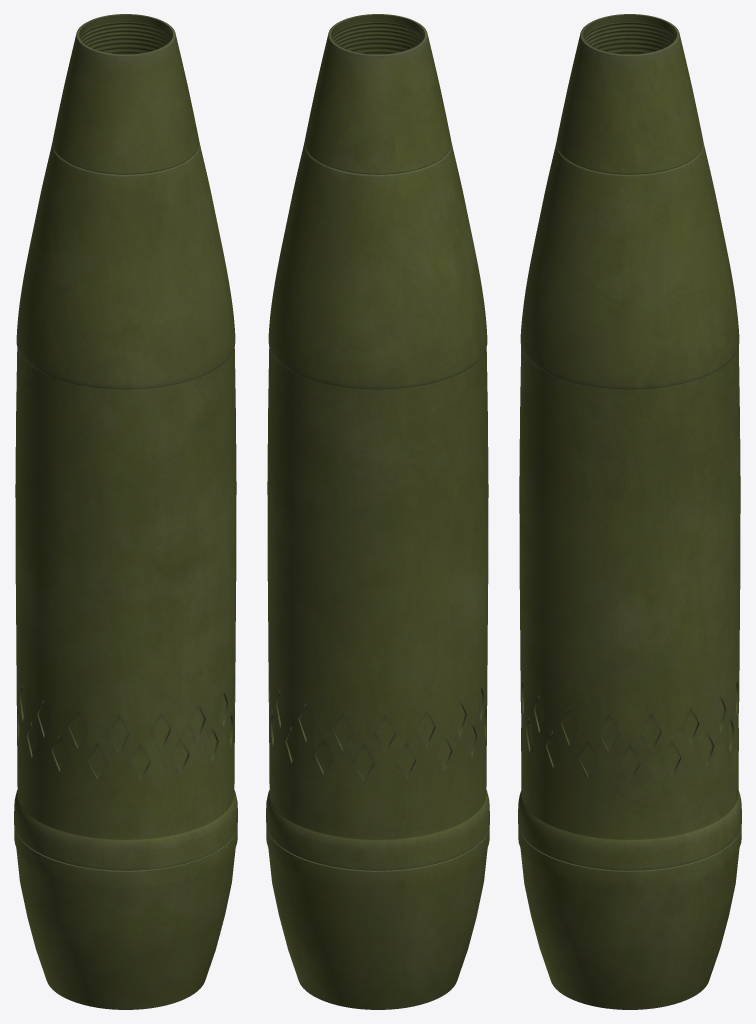
The model's file is projectile-2.gltf.
The picture shows the model from 3 angles, left to right: view 1: azimuth 30°, elevation 25°; view 2: azimuth 150°, elevation 25°; view 3: azimuth 270°, elevation 25°; orthographic projection.
Parts seen in each view (by area): view 1: Mesh2001; view 2: Mesh2001; view 3: Mesh2001.
Part boxes in pixels (x1,y1,x2,y2): Mesh2001: (14,14,237,1009); Mesh2001: (266,14,489,1009); Mesh2001: (518,14,741,1009).
Bounding box in the file's own units: 105 × 487 × 105.
Materials: 1 (1 with a texture image).
